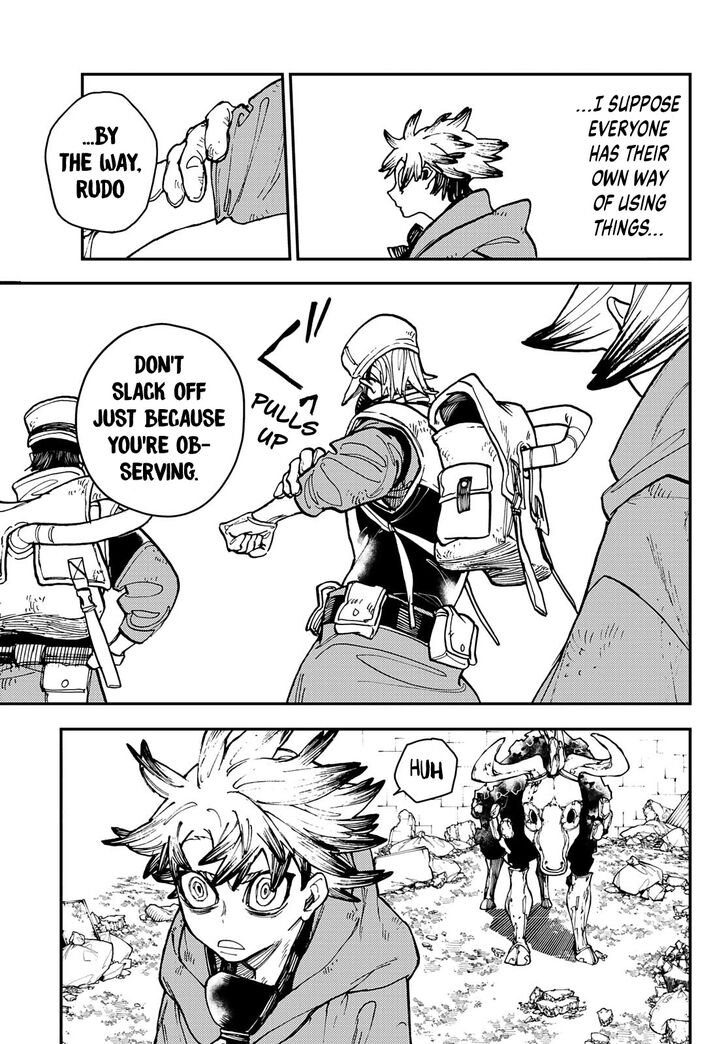bubble: (77, 324, 244, 516), (45, 91, 158, 233), (394, 739, 457, 802)
